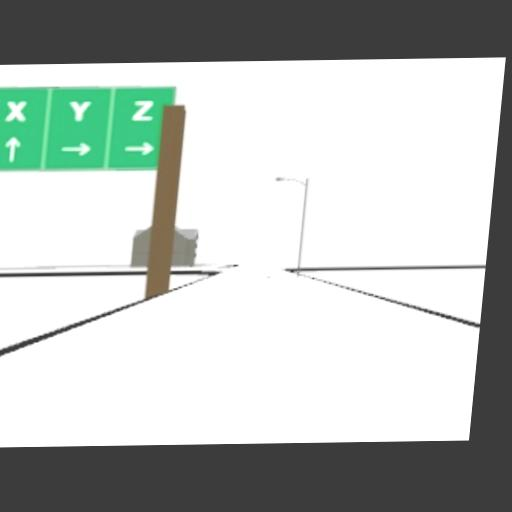Right: (60, 140, 93, 155), (122, 140, 155, 154)
Straight: (4, 135, 22, 160)
X: (4, 98, 27, 119)
Y: (67, 99, 92, 120)
Z: (131, 98, 154, 119)
